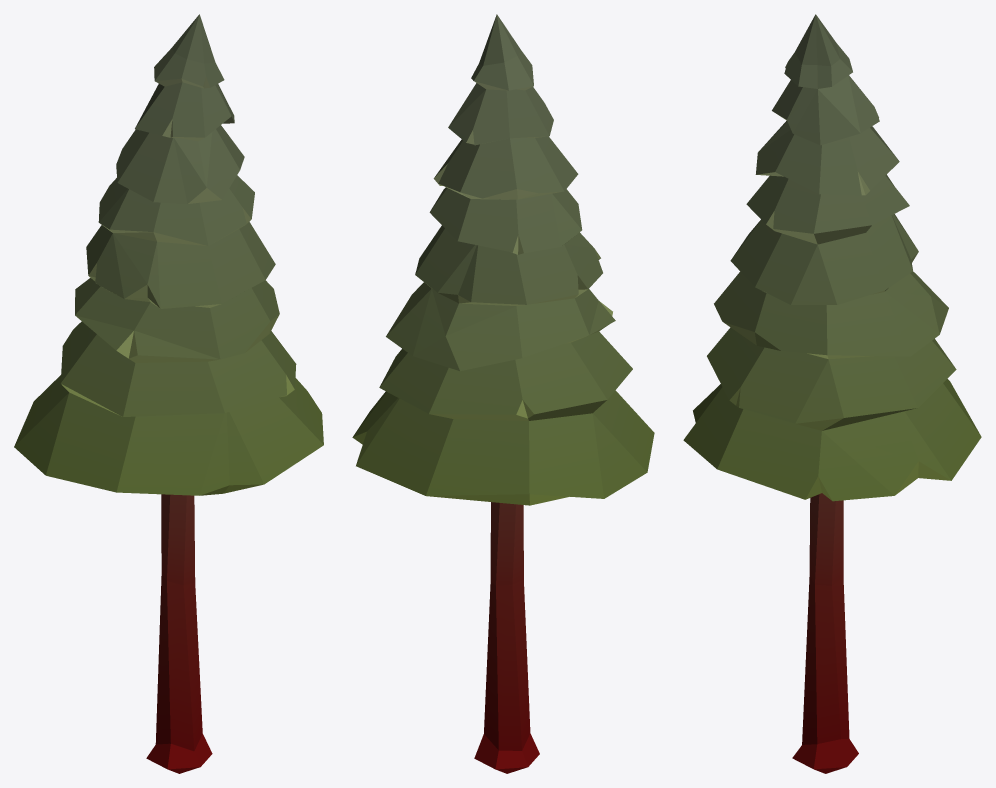
The model's file is synty-tree-polypine-01.gltf.
The picture shows the model from 3 angles, left to right: view 1: azimuth 30°, elevation 25°; view 2: azimuth 150°, elevation 25°; view 3: azimuth 270°, elevation 25°; orthographic projection.
Visible parts, largest first — view 1: SM_Tree_PolyPine_01; view 2: SM_Tree_PolyPine_01; view 3: SM_Tree_PolyPine_01.
Boxes of the visible parts, x1,y1,x2,y2 form: SM_Tree_PolyPine_01: [14, 14, 323, 773]; SM_Tree_PolyPine_01: [352, 14, 654, 773]; SM_Tree_PolyPine_01: [683, 14, 981, 773].
Size of the model in its own units: 2.51 by 6.69 by 2.36.
1 material, 1 textured.
